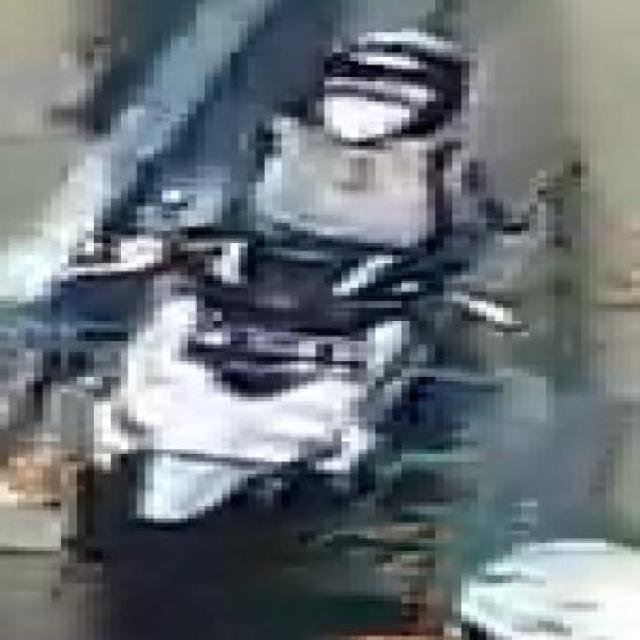helmet: (293, 26, 477, 160)
motorcycle: (55, 14, 584, 568)
